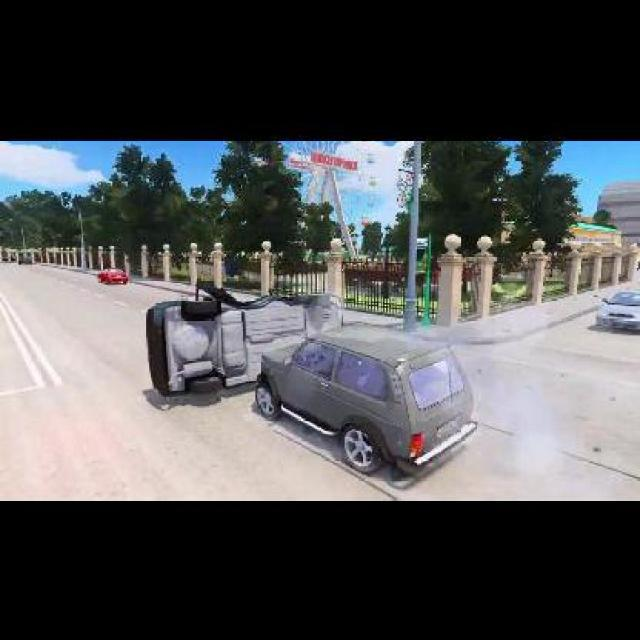accident: (145, 272, 480, 476)
